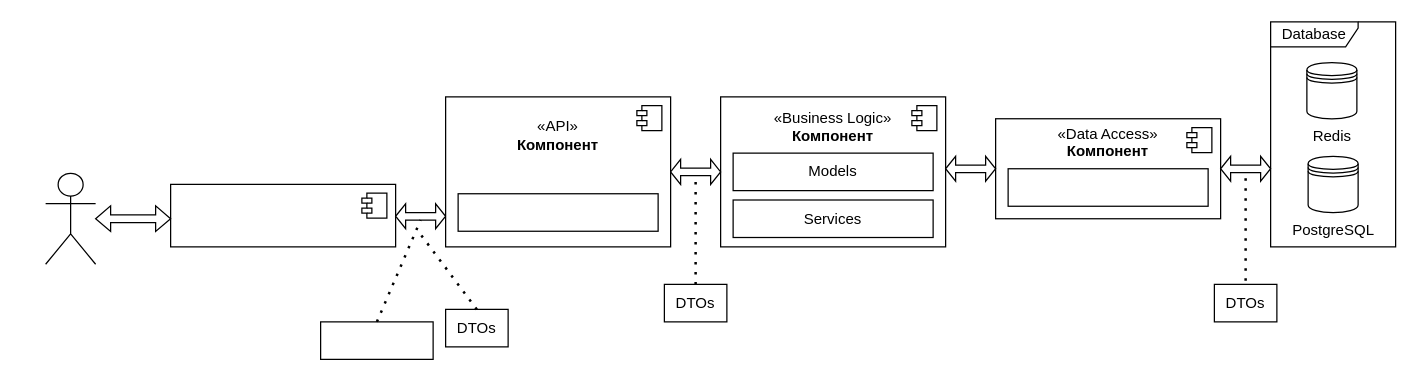
Some shapes in this 1418 by 381 pixel diagram are drawn without their labels. The centre of each missing label's shape, as x and y in pixels:
"Controllers" goes at pixel 557 211.
"Middlewares" goes at pixel 376 340.
"Repositories" goes at pixel 1107 187.
"«User Interface» Компонент" goes at pixel 282 215.
"Пользователь" goes at pixel 70 218.
